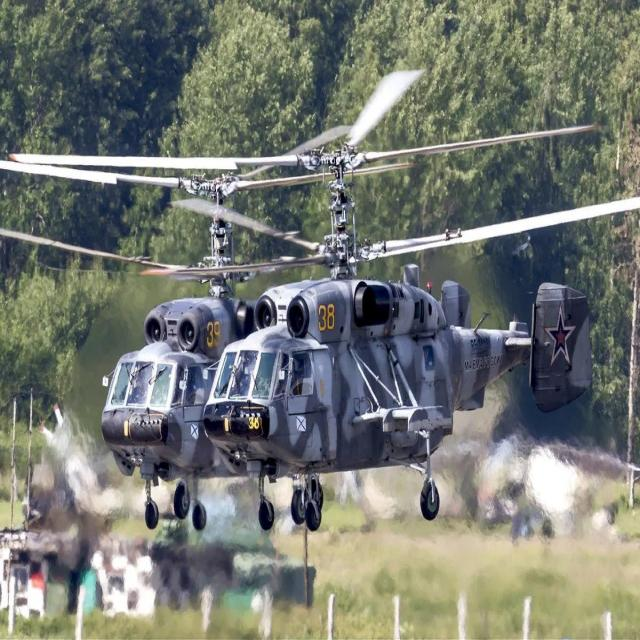MIL_HELO: (31, 100, 640, 553), (48, 174, 244, 524)
